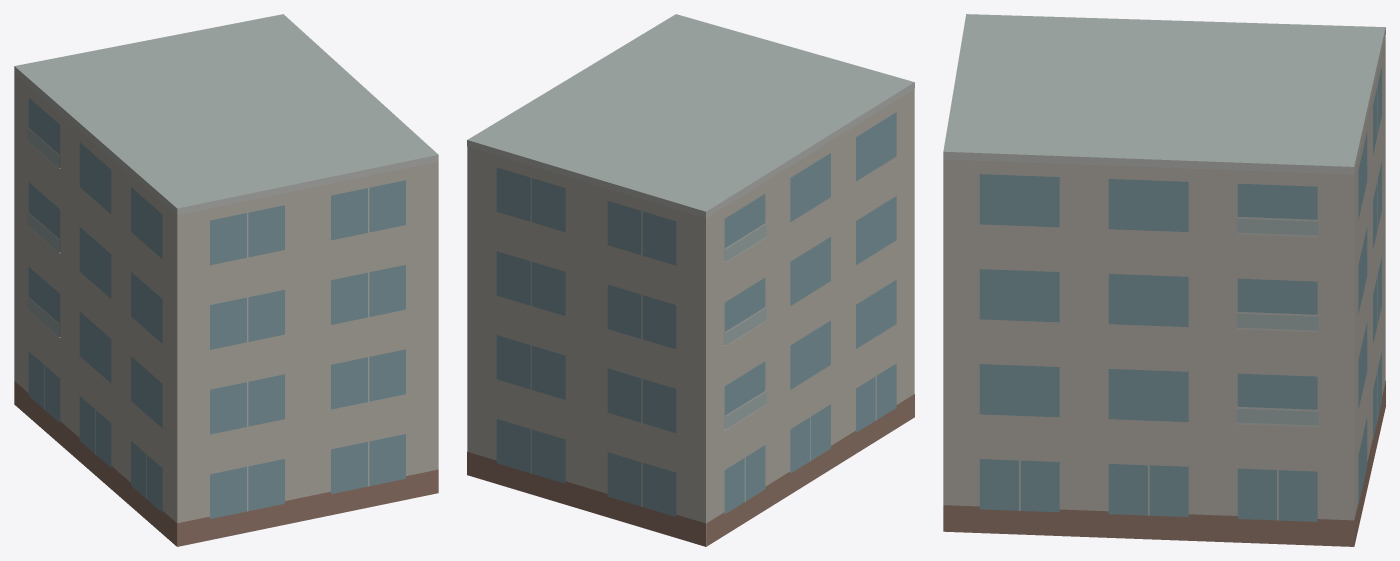
Rendered from survey-upis-32804606.glb.
The picture shows the model from 3 angles, left to right: view 1: azimuth 30°, elevation 25°; view 2: azimuth 150°, elevation 25°; view 3: azimuth 270°, elevation 25°; orthographic projection. The views are drawn at different scales.
Visible parts, largest first — view 1: survey-upis-32804606.tmp; view 2: survey-upis-32804606.tmp; view 3: survey-upis-32804606.tmp.
Part boxes in pixels (bbox=[...]): survey-upis-32804606.tmp: bbox=[14, 14, 438, 546]; survey-upis-32804606.tmp: bbox=[467, 14, 914, 546]; survey-upis-32804606.tmp: bbox=[943, 14, 1385, 546].
Size of the model in its own units: 10.54 by 12.2 by 12.88.
